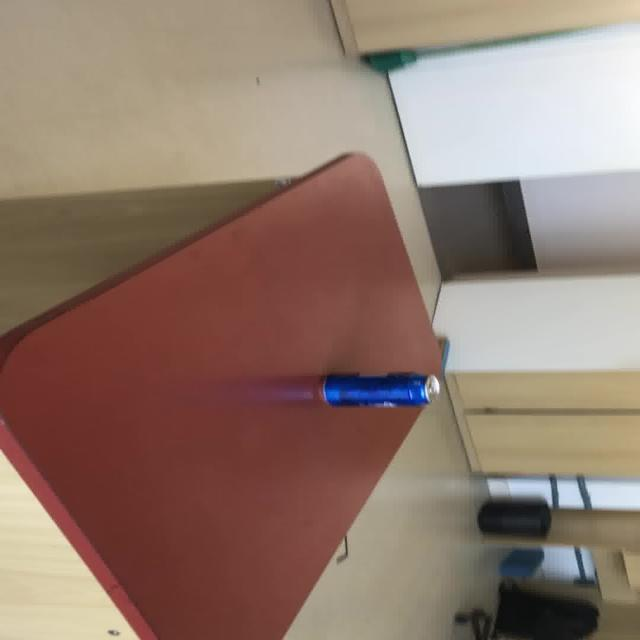tonic: (239, 370, 440, 407), (318, 370, 439, 407)
